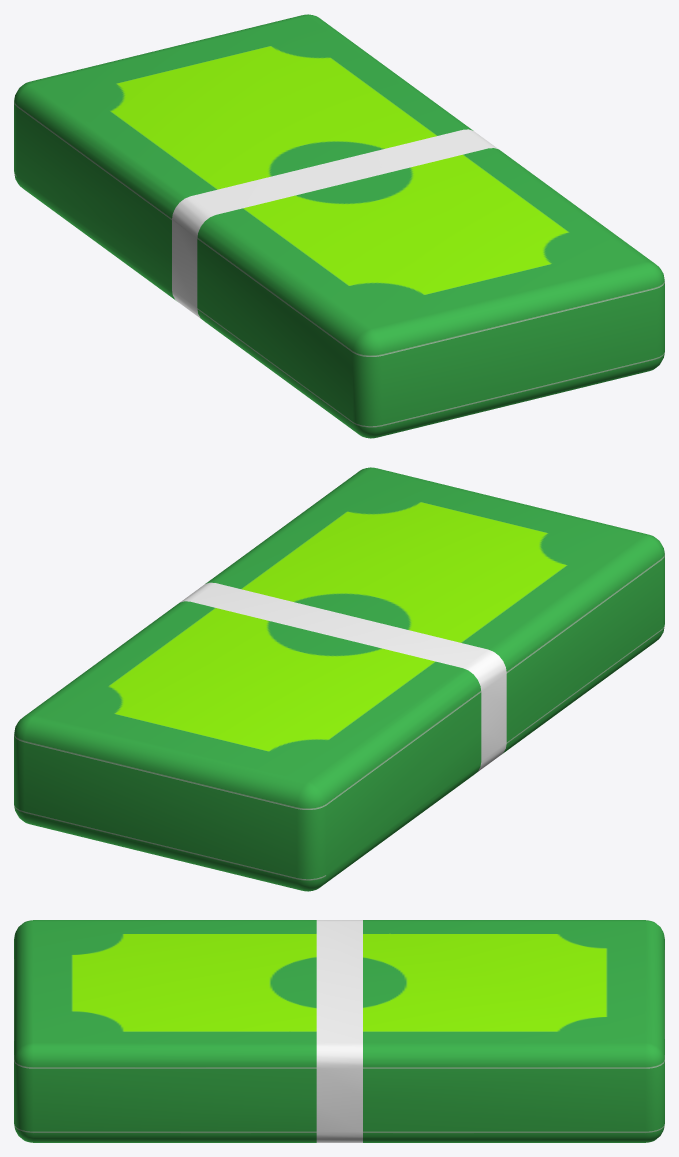
Rendered from Cash_Model.fbx.
The picture shows the model from 3 angles, top to bottom: view 1: azimuth 30°, elevation 25°; view 2: azimuth 150°, elevation 25°; view 3: azimuth 270°, elevation 25°; orthographic projection. The views are drawn at different scales.
Parts seen in each view (by area): view 1: Cash; view 2: Cash; view 3: Cash.
Boxes of the visible parts, x1,y1,x2,y2 form: Cash: (14, 14, 664, 438); Cash: (14, 467, 664, 891); Cash: (14, 920, 664, 1142).
Size of the model in its own units: 150 by 50 by 300.
1 material, 1 textured.
